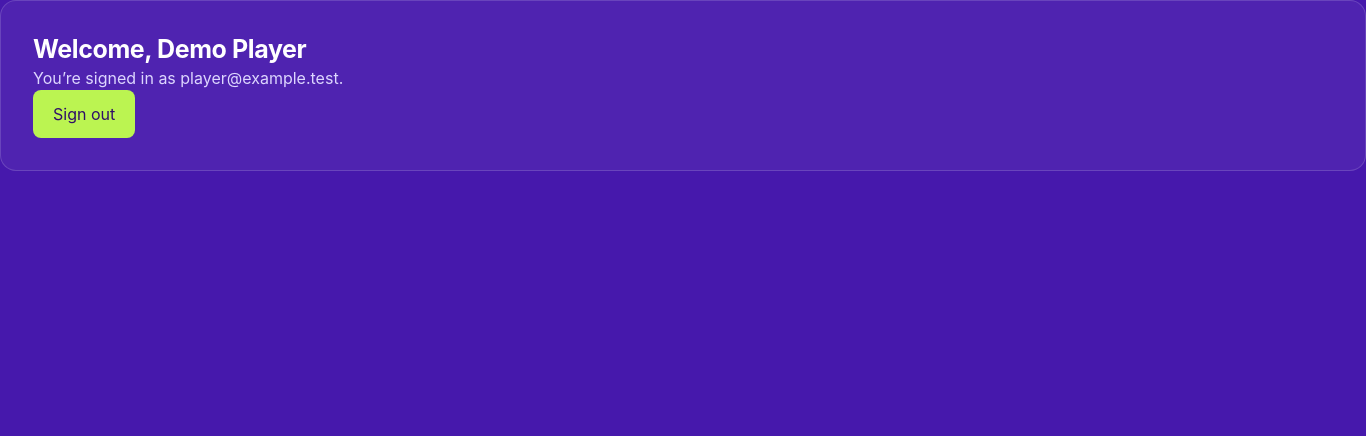
account panel › logs out and returns to the guest form
Click the button "Sign out": (84, 114) [33,90,135,138]
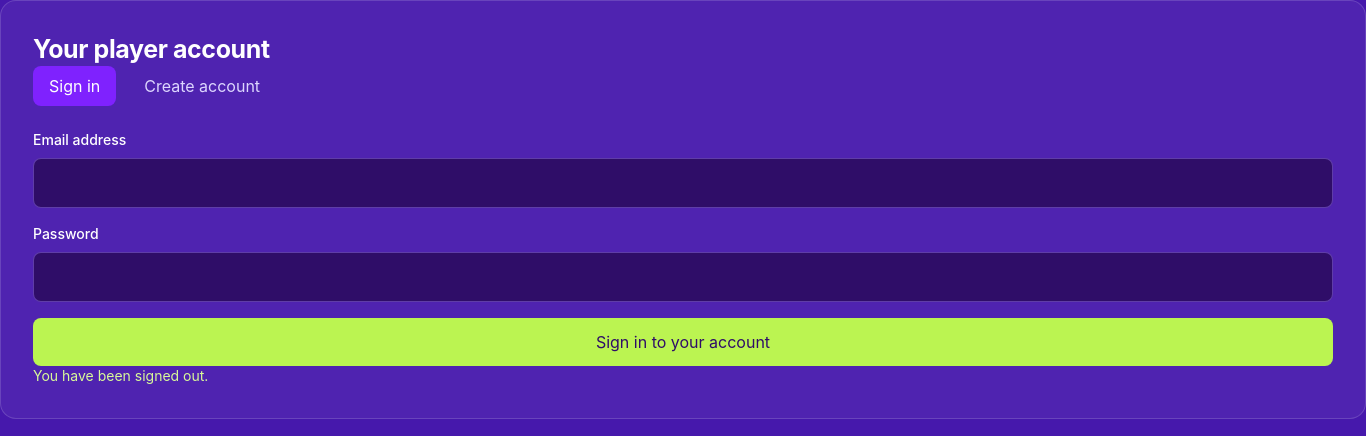
expect the text "You have been signed out." is shown: met, box [33,366,208,384]
expect the button "Sign in to your account" is enabled: met, box [33,318,1333,366]
